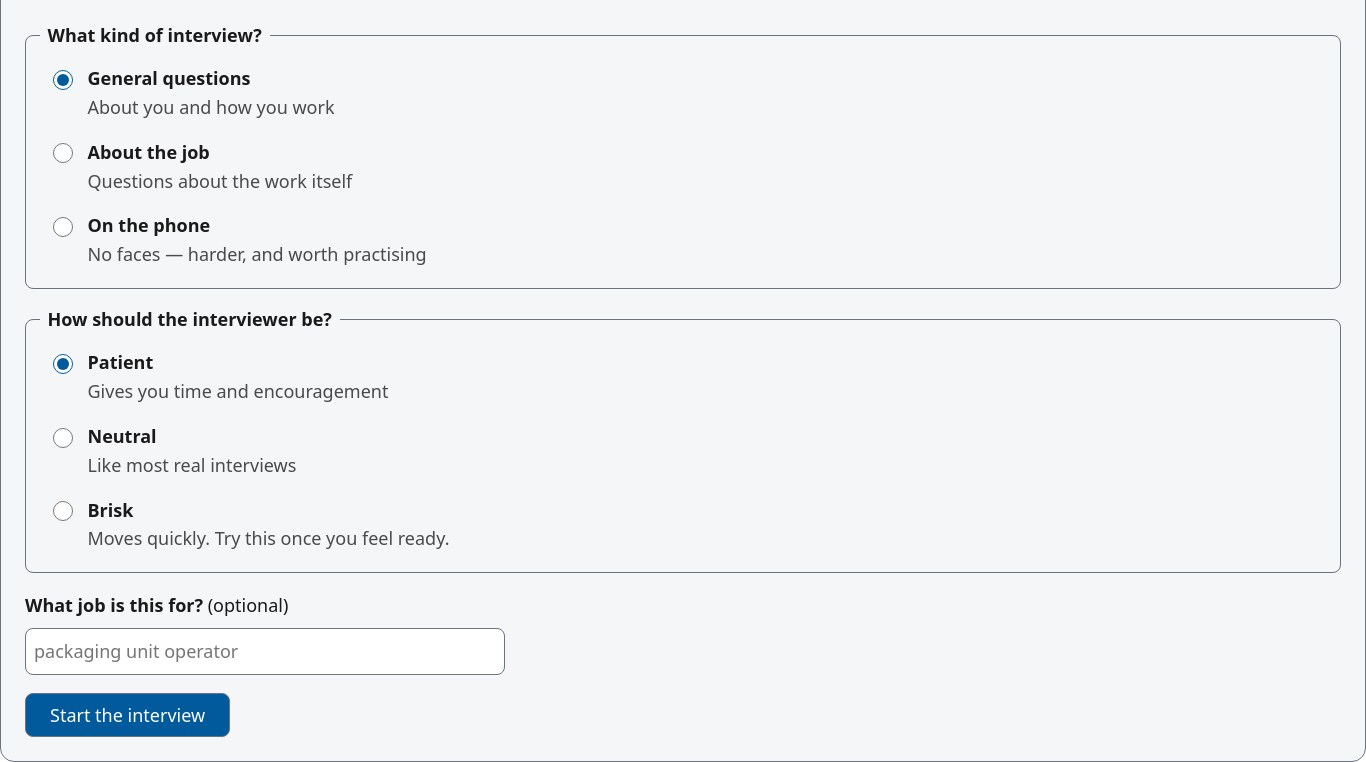
Test case: answering › renders the question through the Modality Router
The image size is (1366, 762).
(page scrolled)
Click the button "Start the interview".
click(128, 715)  # box x1=25 y1=693 x2=230 y2=737
(page scrolled)
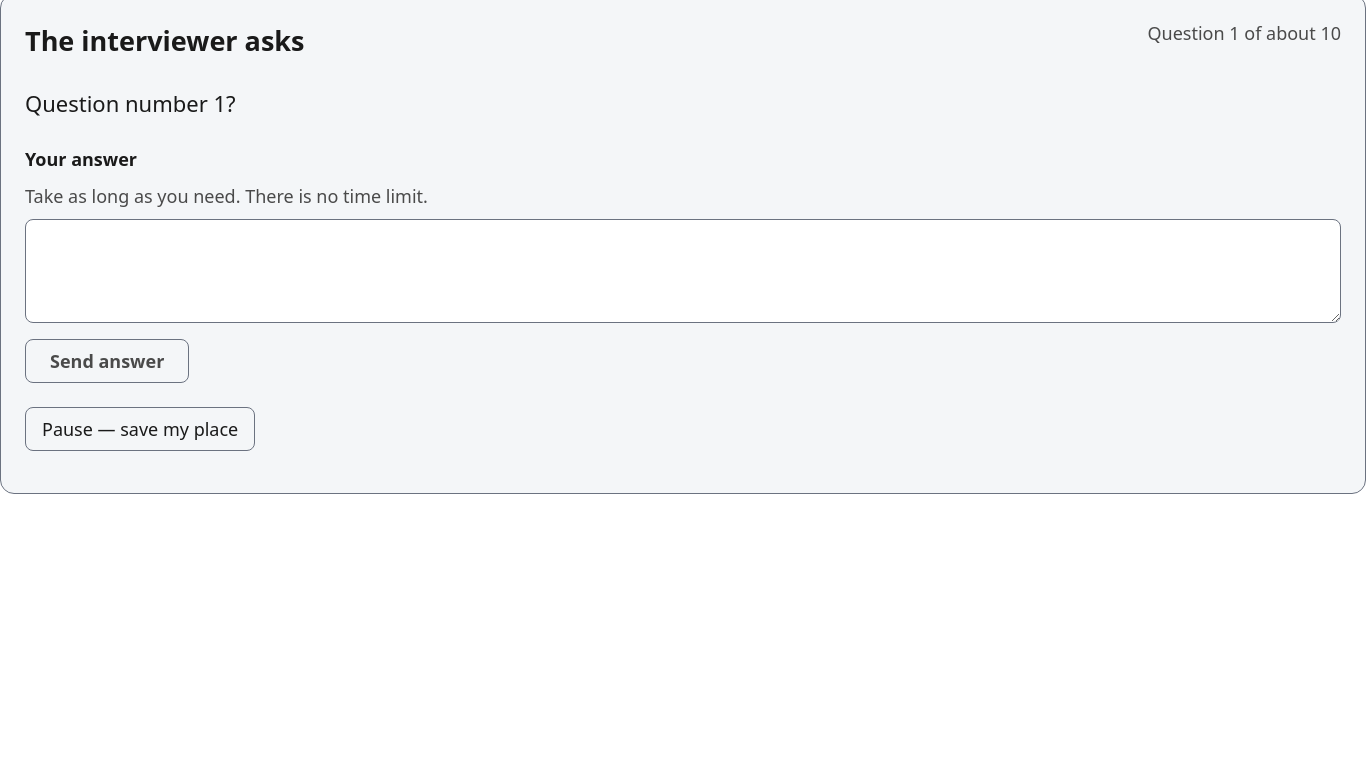
expect the text "Question number 1?" is shown: met, box x1=25 y1=88 x2=236 y2=118
